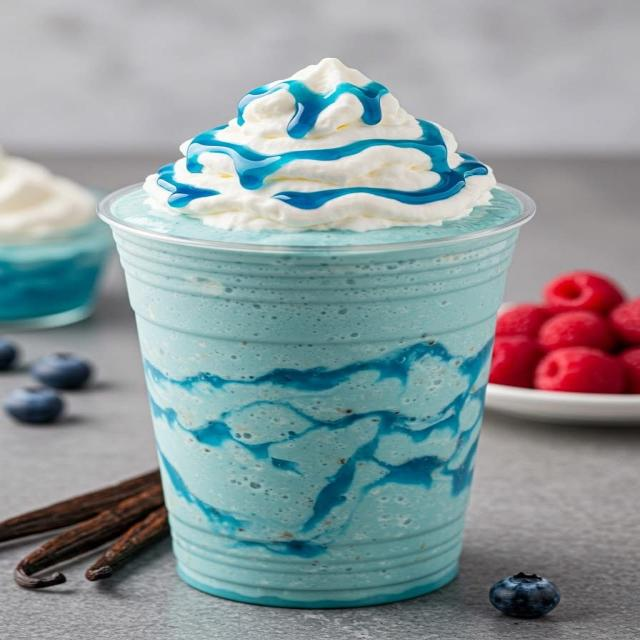plastic cup: (100, 57, 537, 608)
